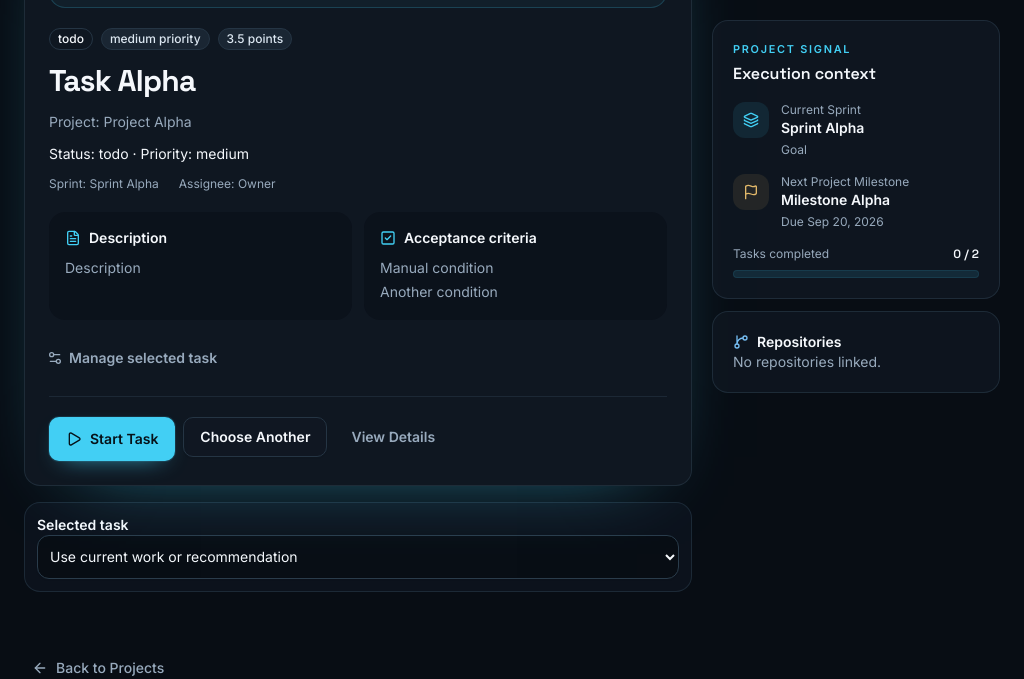
Test: Focus execution (mocked HTTP/jsdom, not a live backend/browser) › reconciles competing starts from two independent tab caches
The image size is (1024, 679).
(page scrolled)
Click the button "Start Task": click(112, 439) [49, 417, 175, 461]
(page scrolled)
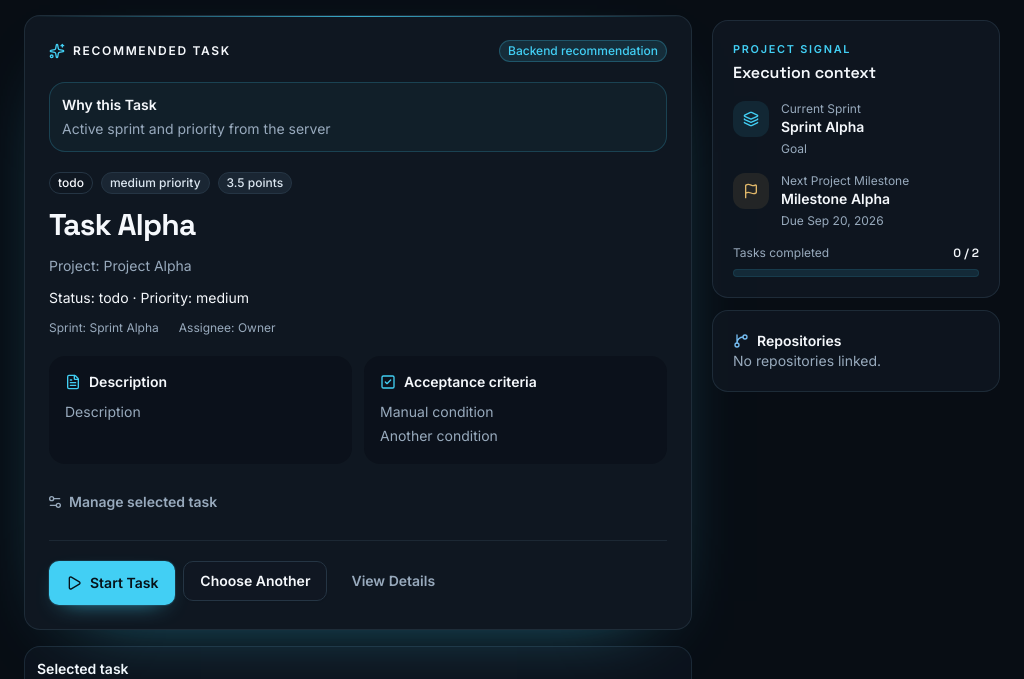
Click the button "Start Task": click(112, 583) [49, 561, 175, 605]
(page scrolled)
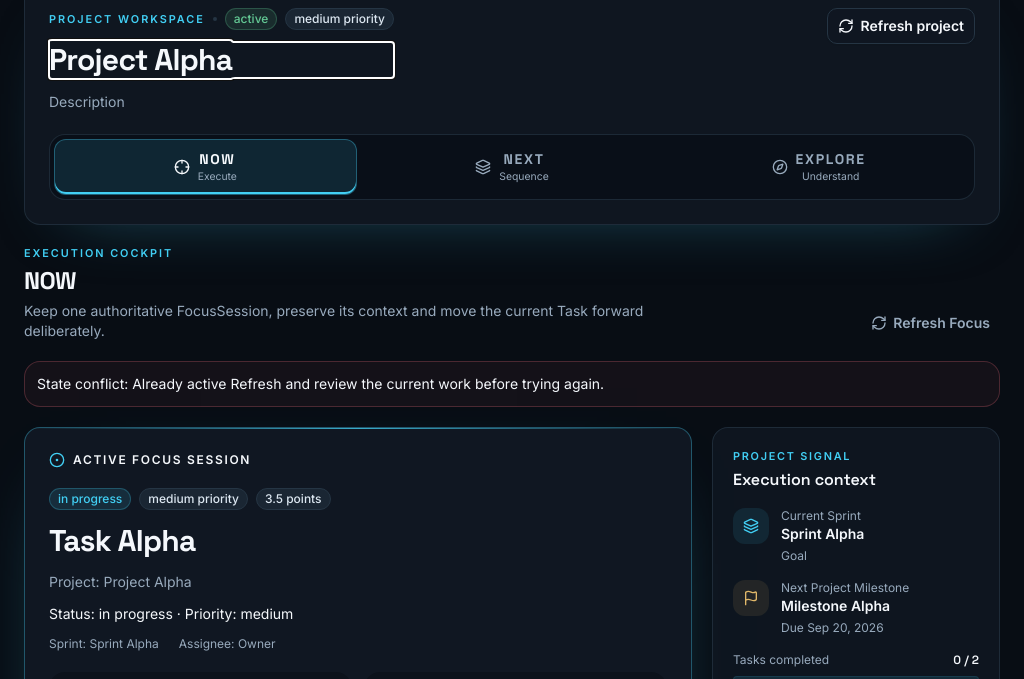
Expected: the text "active Focus session" is shown, [49, 452, 251, 468]
